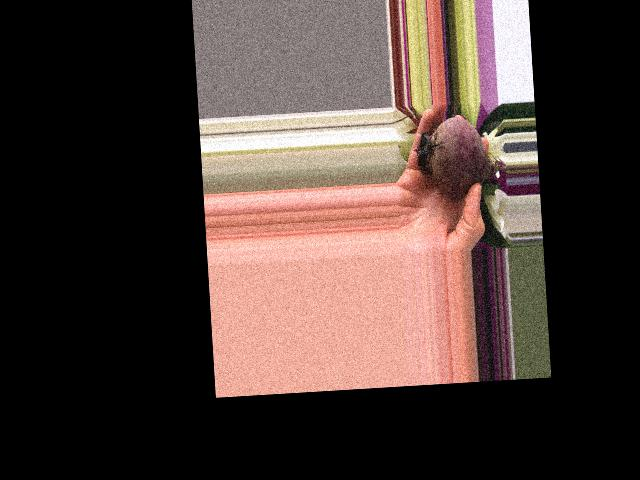beet: (412, 113, 507, 198)
